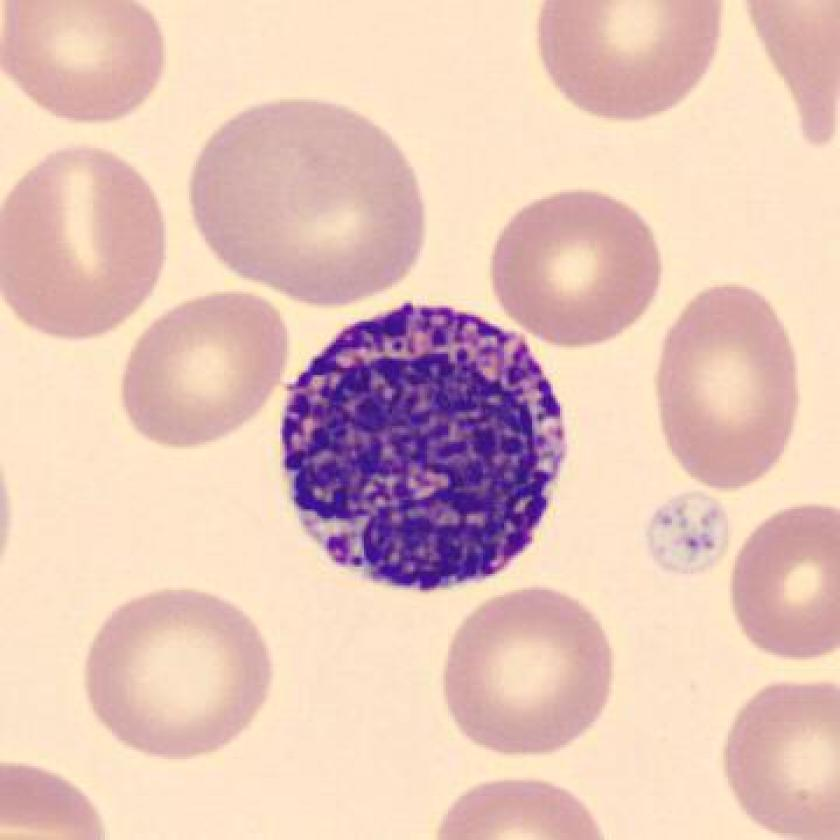basophil: (269, 290, 575, 605)
